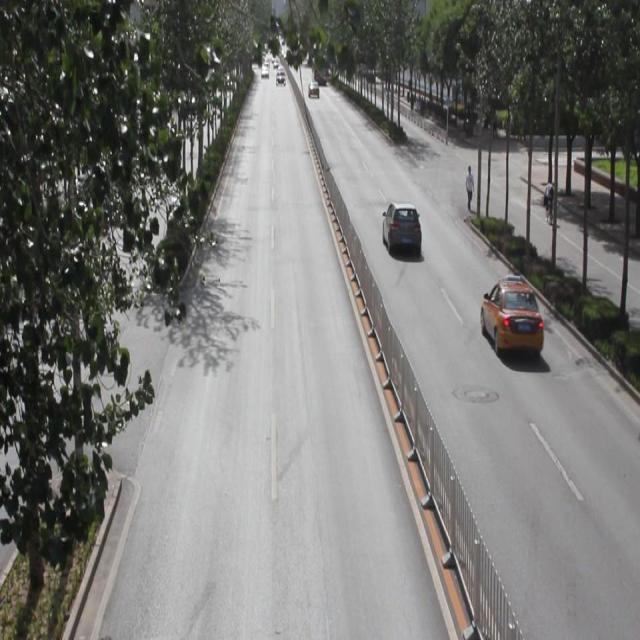car: (479, 279, 542, 360), (381, 202, 422, 260)
